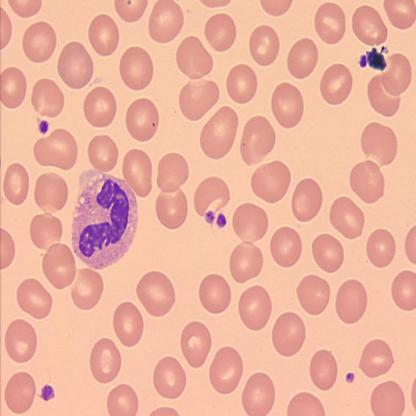Segmented neutrophil: (68, 166, 142, 272)
